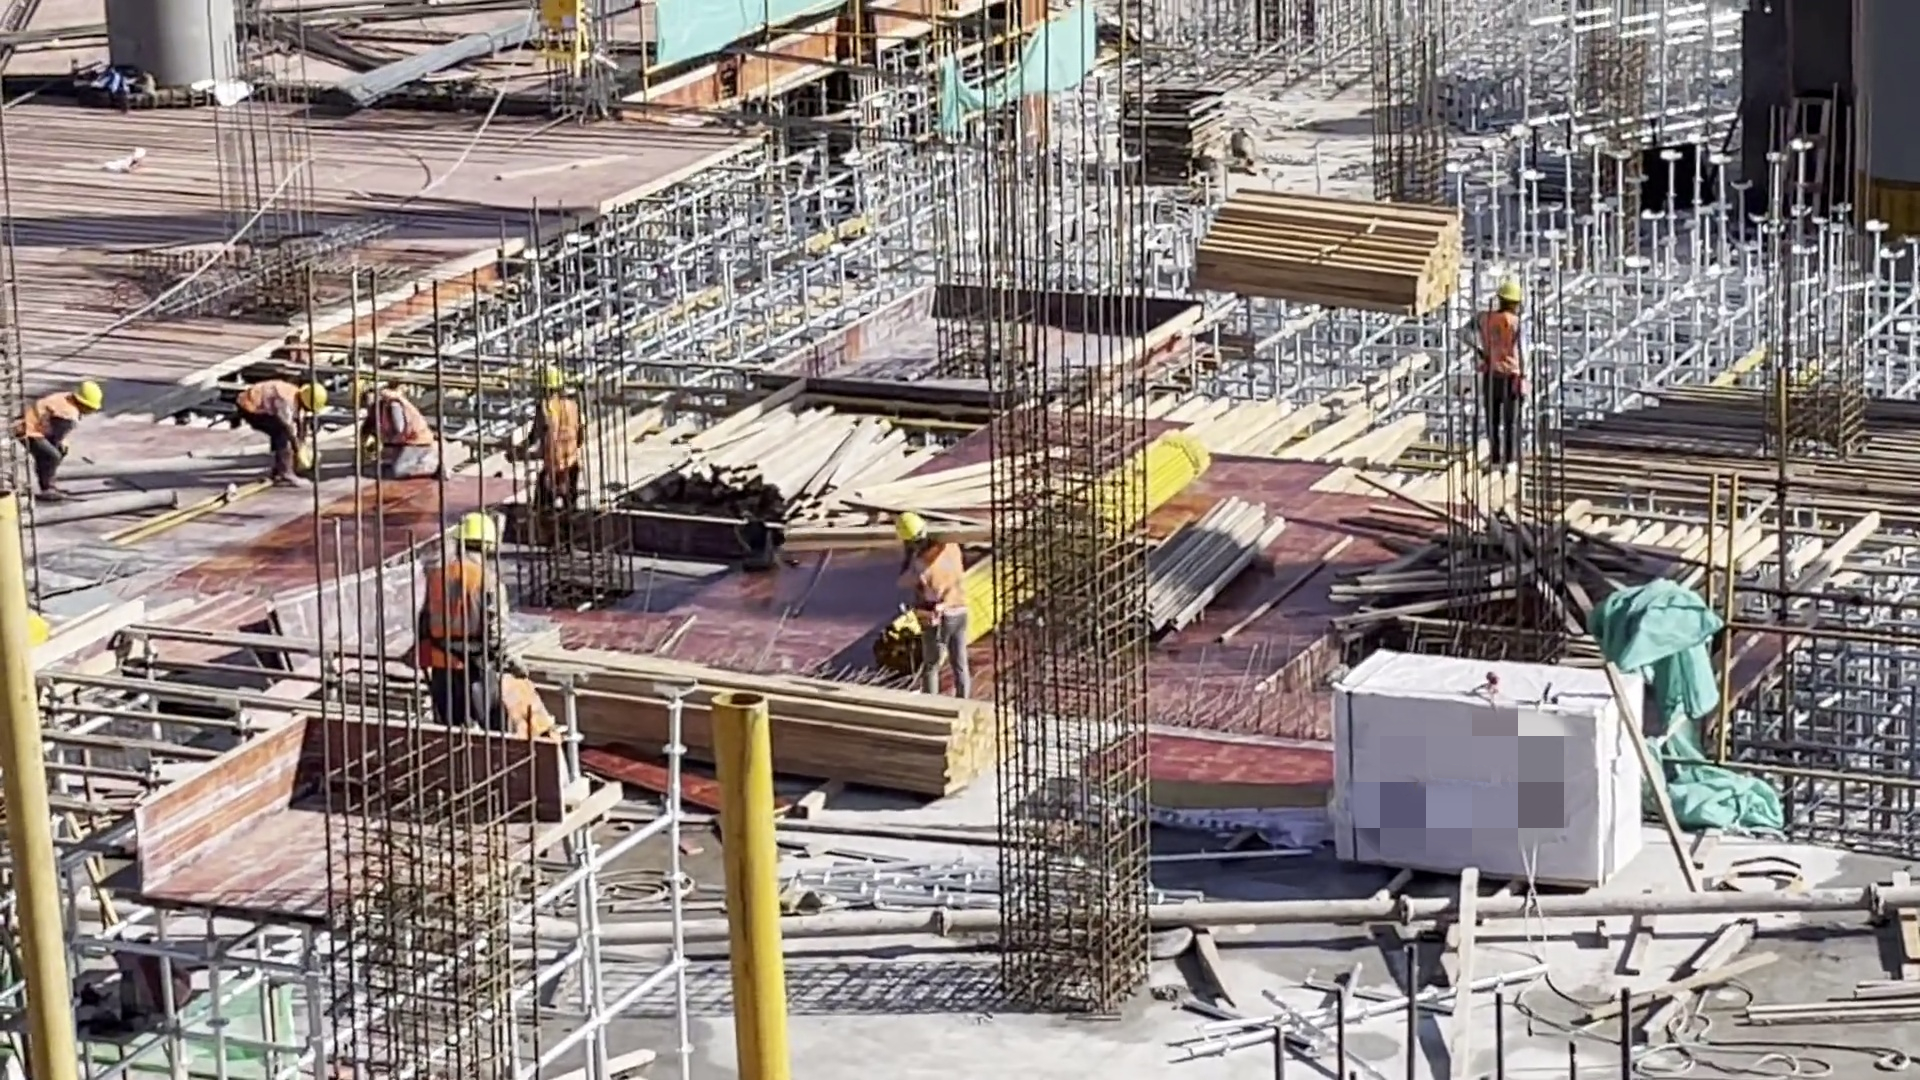helmet: (447, 500, 493, 548), (884, 506, 930, 551), (67, 375, 114, 418), (1486, 267, 1533, 306), (1484, 265, 1531, 304), (533, 356, 571, 398), (342, 368, 375, 413), (292, 376, 330, 411)
person: (416, 513, 553, 732), (515, 360, 610, 543), (892, 516, 977, 707), (1471, 273, 1532, 472), (17, 369, 112, 494), (348, 375, 451, 484), (234, 365, 315, 480)
vest: (420, 562, 505, 657), (891, 556, 968, 607), (373, 387, 435, 444), (1481, 307, 1532, 370), (226, 369, 295, 416), (537, 395, 581, 452), (27, 394, 75, 435)
